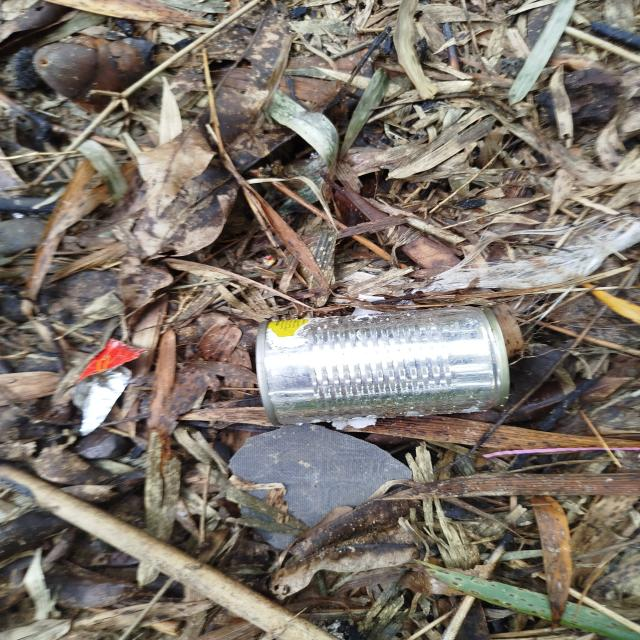metal: (234, 295, 538, 439)
